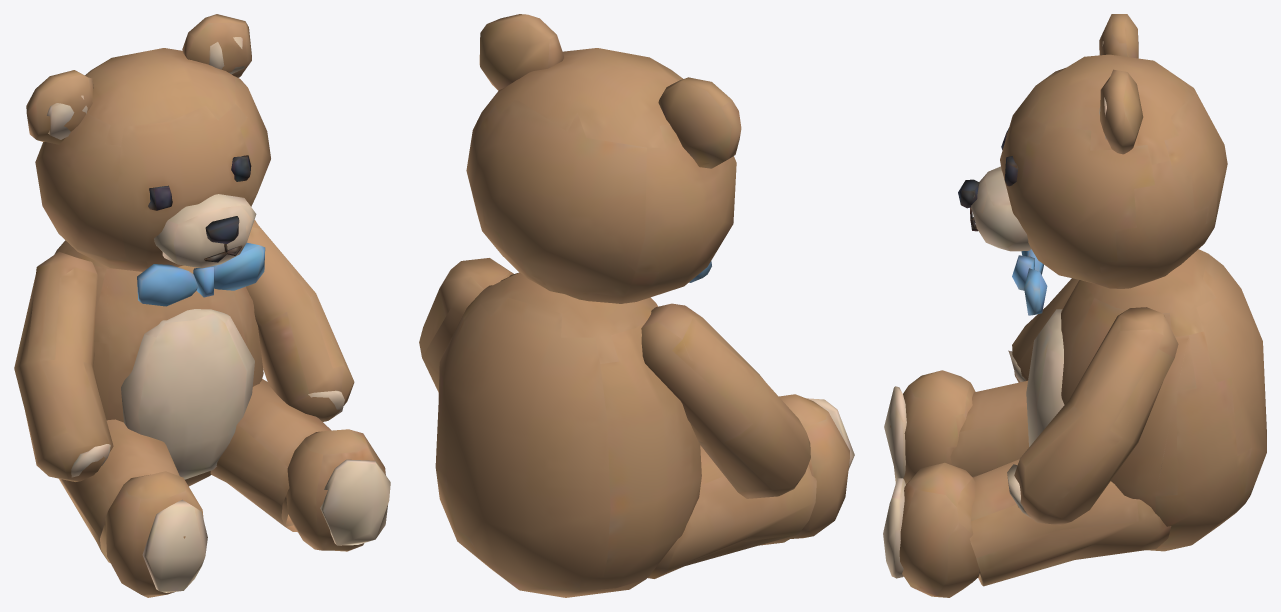
Rendered from g3d_teddy_bear.glb.
3 renders of one model, left to right at view 1: azimuth 30°, elevation 25°; view 2: azimuth 150°, elevation 25°; view 3: azimuth 270°, elevation 25°, orthographic. The views are drawn at different scales.
Visible parts, largest first — view 1: teddy-bear_body, teddy-bear_body_lo; view 2: teddy-bear_body, teddy-bear_body_lo; view 3: teddy-bear_body, teddy-bear_body_lo.
Boxes of the visible parts, x1,y1,x2,y2 form: teddy-bear_body: [14, 14, 390, 597]; teddy-bear_body_lo: [34, 21, 375, 591]; teddy-bear_body: [419, 14, 854, 597]; teddy-bear_body_lo: [463, 91, 798, 570]; teddy-bear_body: [883, 14, 1266, 597]; teddy-bear_body_lo: [892, 41, 1217, 585].
Size of the model in its own units: 0.2173 by 0.3207 by 0.2216.
Materials: 1 (1 with a texture image).
